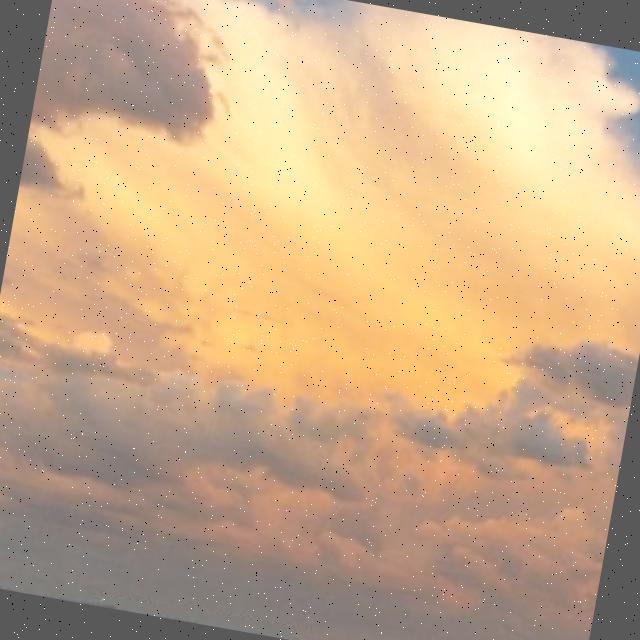Cu: (1, 1, 640, 612)
